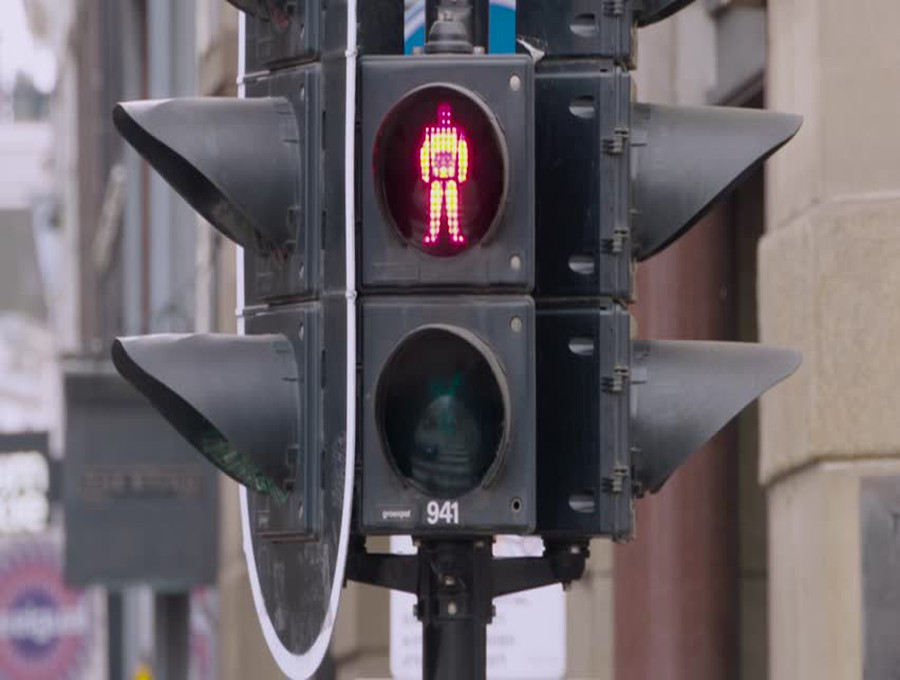Traffic Light-red: (359, 62, 533, 515)
